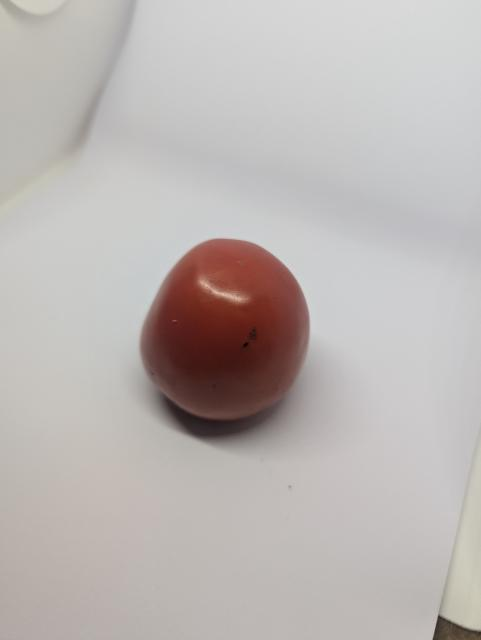red: (132, 230, 314, 433)
